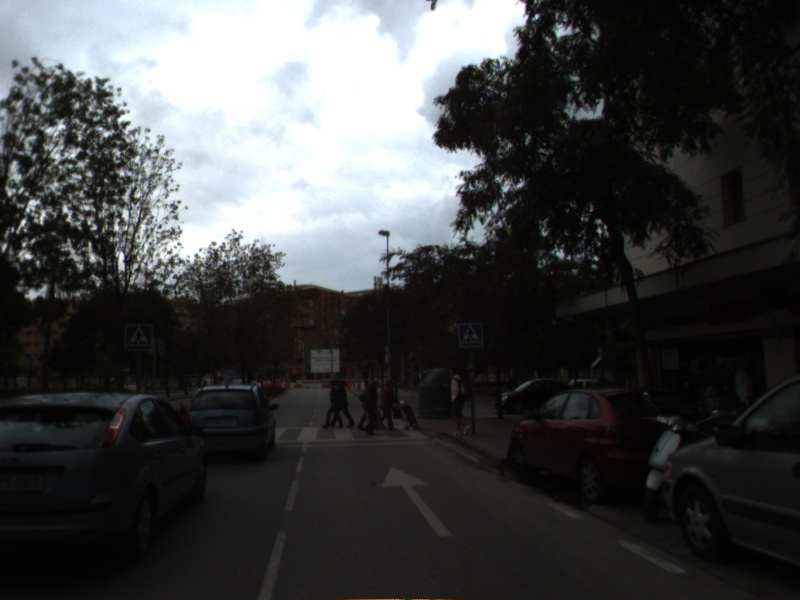STRAIGHT: (380, 465, 455, 539)
